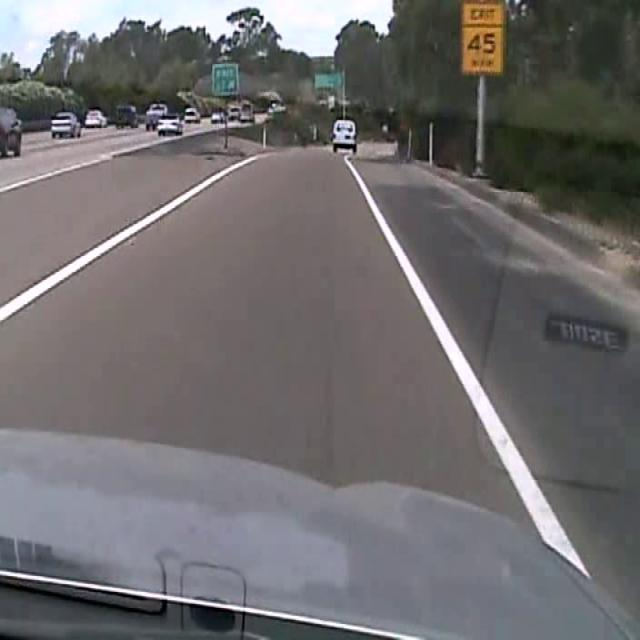speedLimit45: (460, 0, 505, 75)
